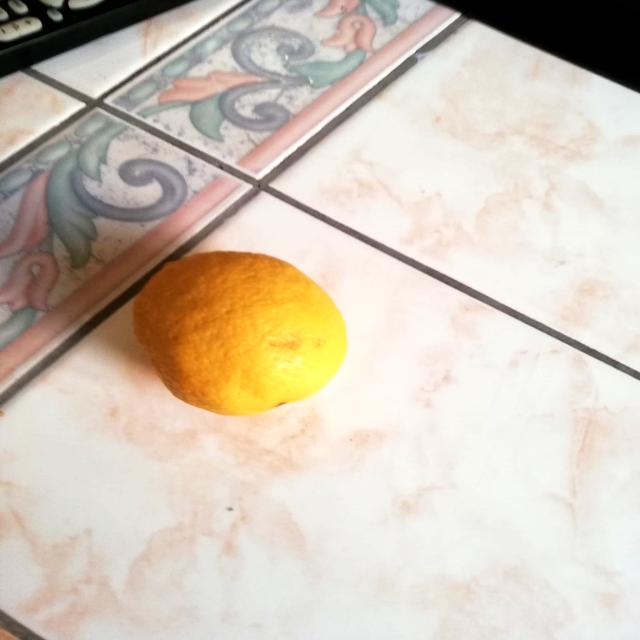lemon: (124, 247, 356, 419)
